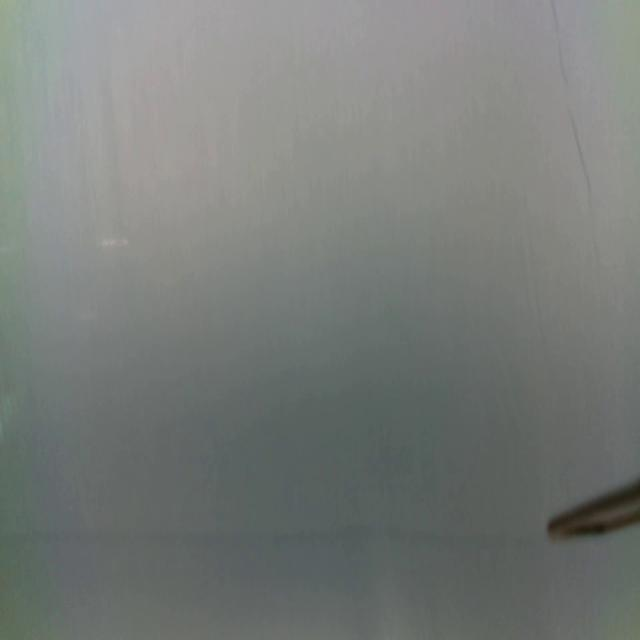color bleeding: (1, 508, 544, 572)
crease: (568, 108, 594, 206), (548, 0, 569, 86)
